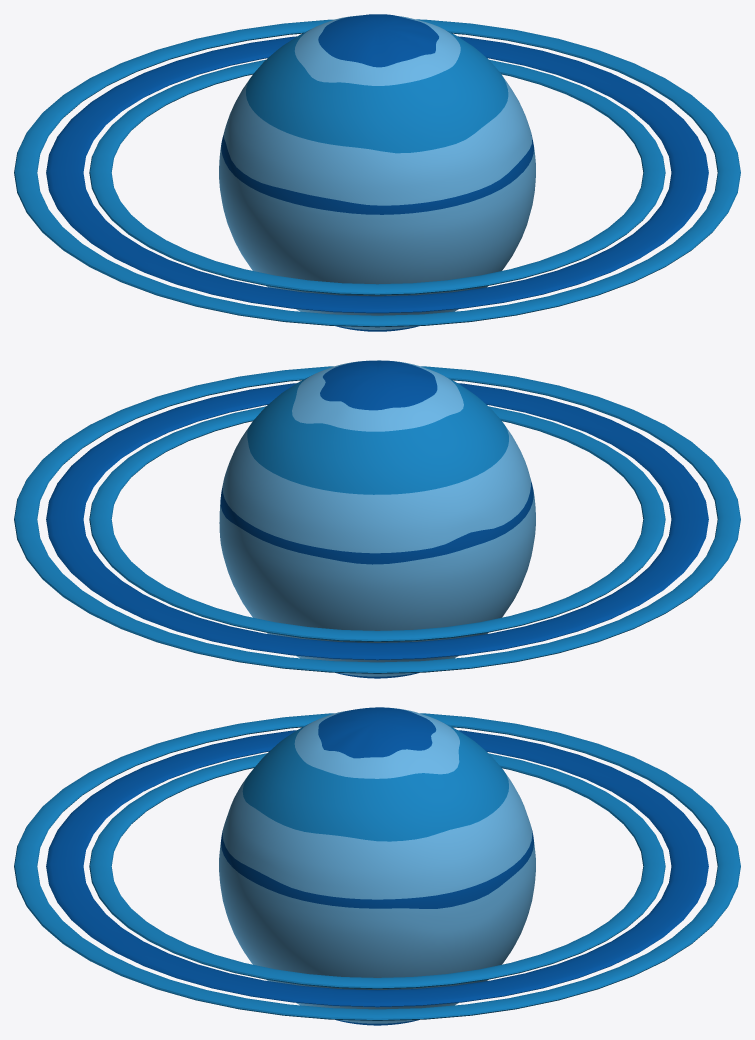
Rendered from neptune-uneven.glb.
3 views of the same model, one above another, from view 1: azimuth 30°, elevation 25°; view 2: azimuth 150°, elevation 25°; view 3: azimuth 270°, elevation 25° (orthographic).
Visible parts, largest first — view 1: Sphere, Circle.001, Circle.002, Circle; view 2: Sphere, Circle.001, Circle.002, Circle; view 3: Sphere, Circle.001, Circle.002, Circle.
Boxes of the visible parts, bbox=[...] form: Sphere: bbox=[219, 14, 535, 331]; Circle.001: bbox=[46, 36, 708, 313]; Circle.002: bbox=[14, 19, 740, 327]; Circle: bbox=[89, 59, 665, 295]; Sphere: bbox=[219, 360, 535, 678]; Circle.001: bbox=[46, 383, 708, 660]; Circle.002: bbox=[14, 366, 740, 673]; Circle: bbox=[89, 406, 665, 641]; Sphere: bbox=[219, 707, 535, 1025]; Circle.001: bbox=[46, 730, 708, 1007]; Circle.002: bbox=[14, 713, 740, 1020]; Circle: bbox=[89, 753, 665, 989].
Bounding box in the file's own units: 5.07 × 2.23 × 5.07.
